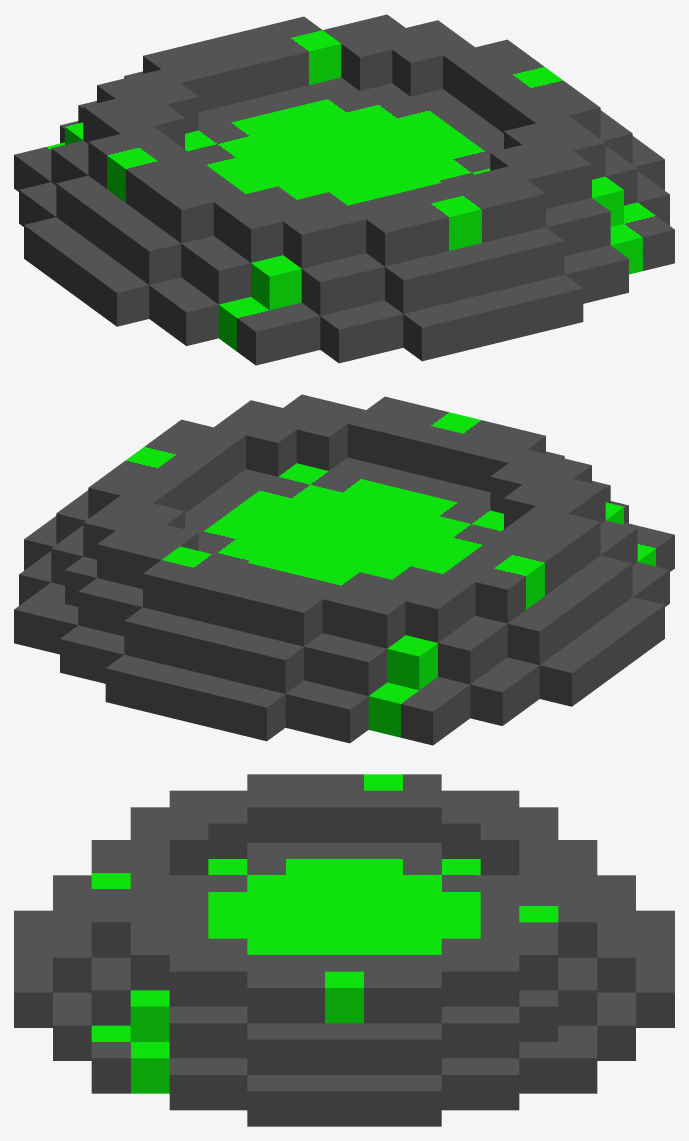
Rendered from ToxicCrater3.dae.
The picture shows the model from 3 angles, top to bottom: view 1: azimuth 30°, elevation 25°; view 2: azimuth 150°, elevation 25°; view 3: azimuth 270°, elevation 25°; orthographic projection. The views are drawn at different scales.
Visible parts, largest first — view 1: toxiccrater3.merged; view 2: toxiccrater3.merged; view 3: toxiccrater3.merged.
Boxes of the visible parts, bbox=[...] form: toxiccrater3.merged: bbox=[14, 14, 674, 365]; toxiccrater3.merged: bbox=[14, 394, 674, 745]; toxiccrater3.merged: bbox=[14, 774, 674, 1126].
Size of the model in its own units: 1.7 by 0.3 by 1.7.
1 material, 1 textured.
